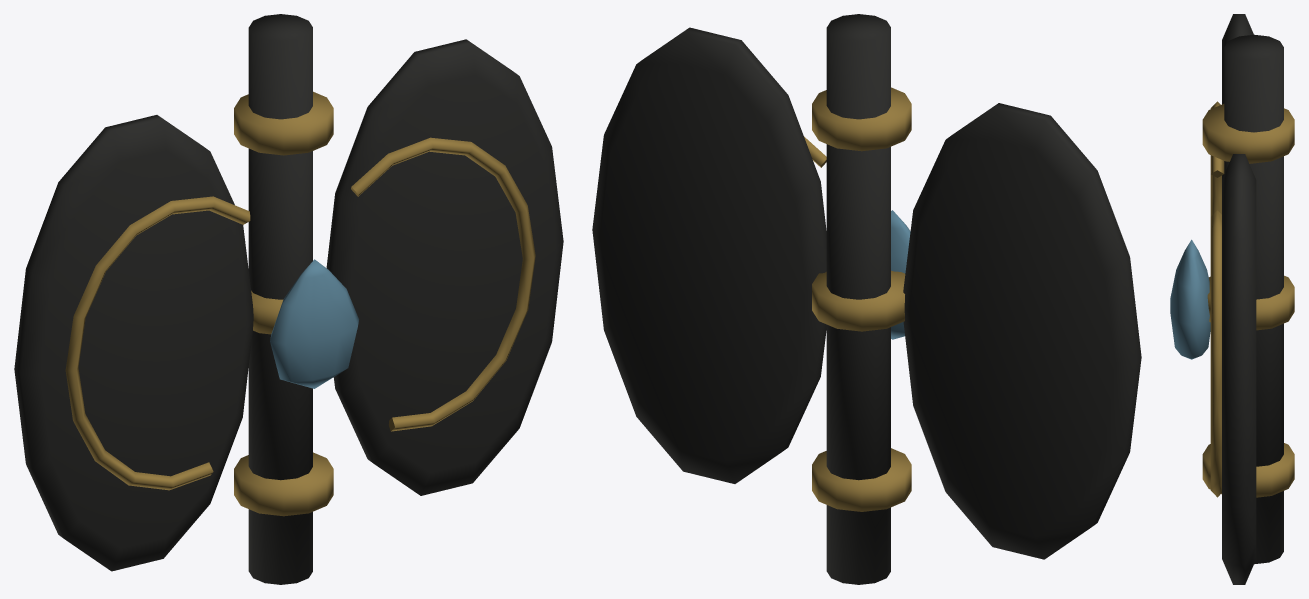
File: black_hinge.obj
The picture shows the model from 3 angles, left to right: view 1: azimuth 30°, elevation 25°; view 2: azimuth 150°, elevation 25°; view 3: azimuth 270°, elevation 25°; orthographic projection. The views are drawn at different scales.
Visible parts, largest first — view 1: A_Leaf_L.001_wrought_iron, A_Leaf_R.001_wrought_iron, A_CeremonialPin.001_wrought_iron, A_CrystalHeart.001_crystal, C_Halo_L.001_ritual_gold, C_Halo_R.001_ritual_gold, A_GoldCollar_-0.001_ritual_gold, A_GoldCollar_+0.002_ritual_gold, A_GoldCollar_+0.001_ritual_gold; view 2: A_Leaf_L.001_wrought_iron, A_Leaf_R.001_wrought_iron, A_CeremonialPin.001_wrought_iron, A_GoldCollar_-0.001_ritual_gold, A_GoldCollar_+0.002_ritual_gold, A_GoldCollar_+0.001_ritual_gold, A_CrystalHeart.001_crystal; view 3: A_CeremonialPin.001_wrought_iron, A_Leaf_R.001_wrought_iron, A_CrystalHeart.001_crystal, C_Halo_R.001_ritual_gold, A_GoldCollar_+0.002_ritual_gold, A_GoldCollar_-0.001_ritual_gold, A_GoldCollar_+0.001_ritual_gold, C_Halo_L.001_ritual_gold, A_Leaf_L.001_wrought_iron.
Boxes of the visible parts, x1=… form: A_Leaf_L.001_wrought_iron: x1=14, y1=115, x2=253, y2=571; A_Leaf_R.001_wrought_iron: x1=326, y1=39, x2=563, y2=495; A_CeremonialPin.001_wrought_iron: x1=248, y1=14, x2=312, y2=584; A_CrystalHeart.001_crystal: x1=270, y1=259, x2=358, y2=388; C_Halo_L.001_ritual_gold: x1=65, y1=196, x2=250, y2=490; C_Halo_R.001_ritual_gold: x1=351, y1=137, x2=535, y2=431; A_GoldCollar_-0.001_ritual_gold: x1=234, y1=452, x2=333, y2=516; A_GoldCollar_+0.002_ritual_gold: x1=234, y1=91, x2=333, y2=155; A_GoldCollar_+0.001_ritual_gold: x1=251, y1=290, x2=282, y2=334; A_Leaf_L.001_wrought_iron: x1=903, y1=103, x2=1141, y2=559; A_Leaf_R.001_wrought_iron: x1=592, y1=27, x2=826, y2=483; A_CeremonialPin.001_wrought_iron: x1=826, y1=14, x2=890, y2=584; A_GoldCollar_-0.001_ritual_gold: x1=812, y1=448, x2=911, y2=511; A_GoldCollar_+0.002_ritual_gold: x1=812, y1=87, x2=911, y2=151; A_GoldCollar_+0.001_ritual_gold: x1=812, y1=270, x2=905, y2=331; A_CrystalHeart.001_crystal: x1=891, y1=210, x2=910, y2=339; A_CeremonialPin.001_wrought_iron: x1=1224, y1=34, x2=1283, y2=564; A_Leaf_R.001_wrought_iron: x1=1222, y1=154, x2=1256, y2=584; A_CrystalHeart.001_crystal: x1=1170, y1=239, x2=1210, y2=359; C_Halo_R.001_ritual_gold: x1=1210, y1=210, x2=1221, y2=497; A_GoldCollar_+0.002_ritual_gold: x1=1202, y1=104, x2=1294, y2=163; A_GoldCollar_-0.001_ritual_gold: x1=1202, y1=443, x2=1294, y2=497; A_GoldCollar_+0.001_ritual_gold: x1=1207, y1=275, x2=1294, y2=330; C_Halo_L.001_ritual_gold: x1=1210, y1=101, x2=1224, y2=216; A_Leaf_L.001_wrought_iron: x1=1222, y1=14, x2=1253, y2=179.
Bounding box in the file's own units: 2.14 × 2.05 × 0.4591.
